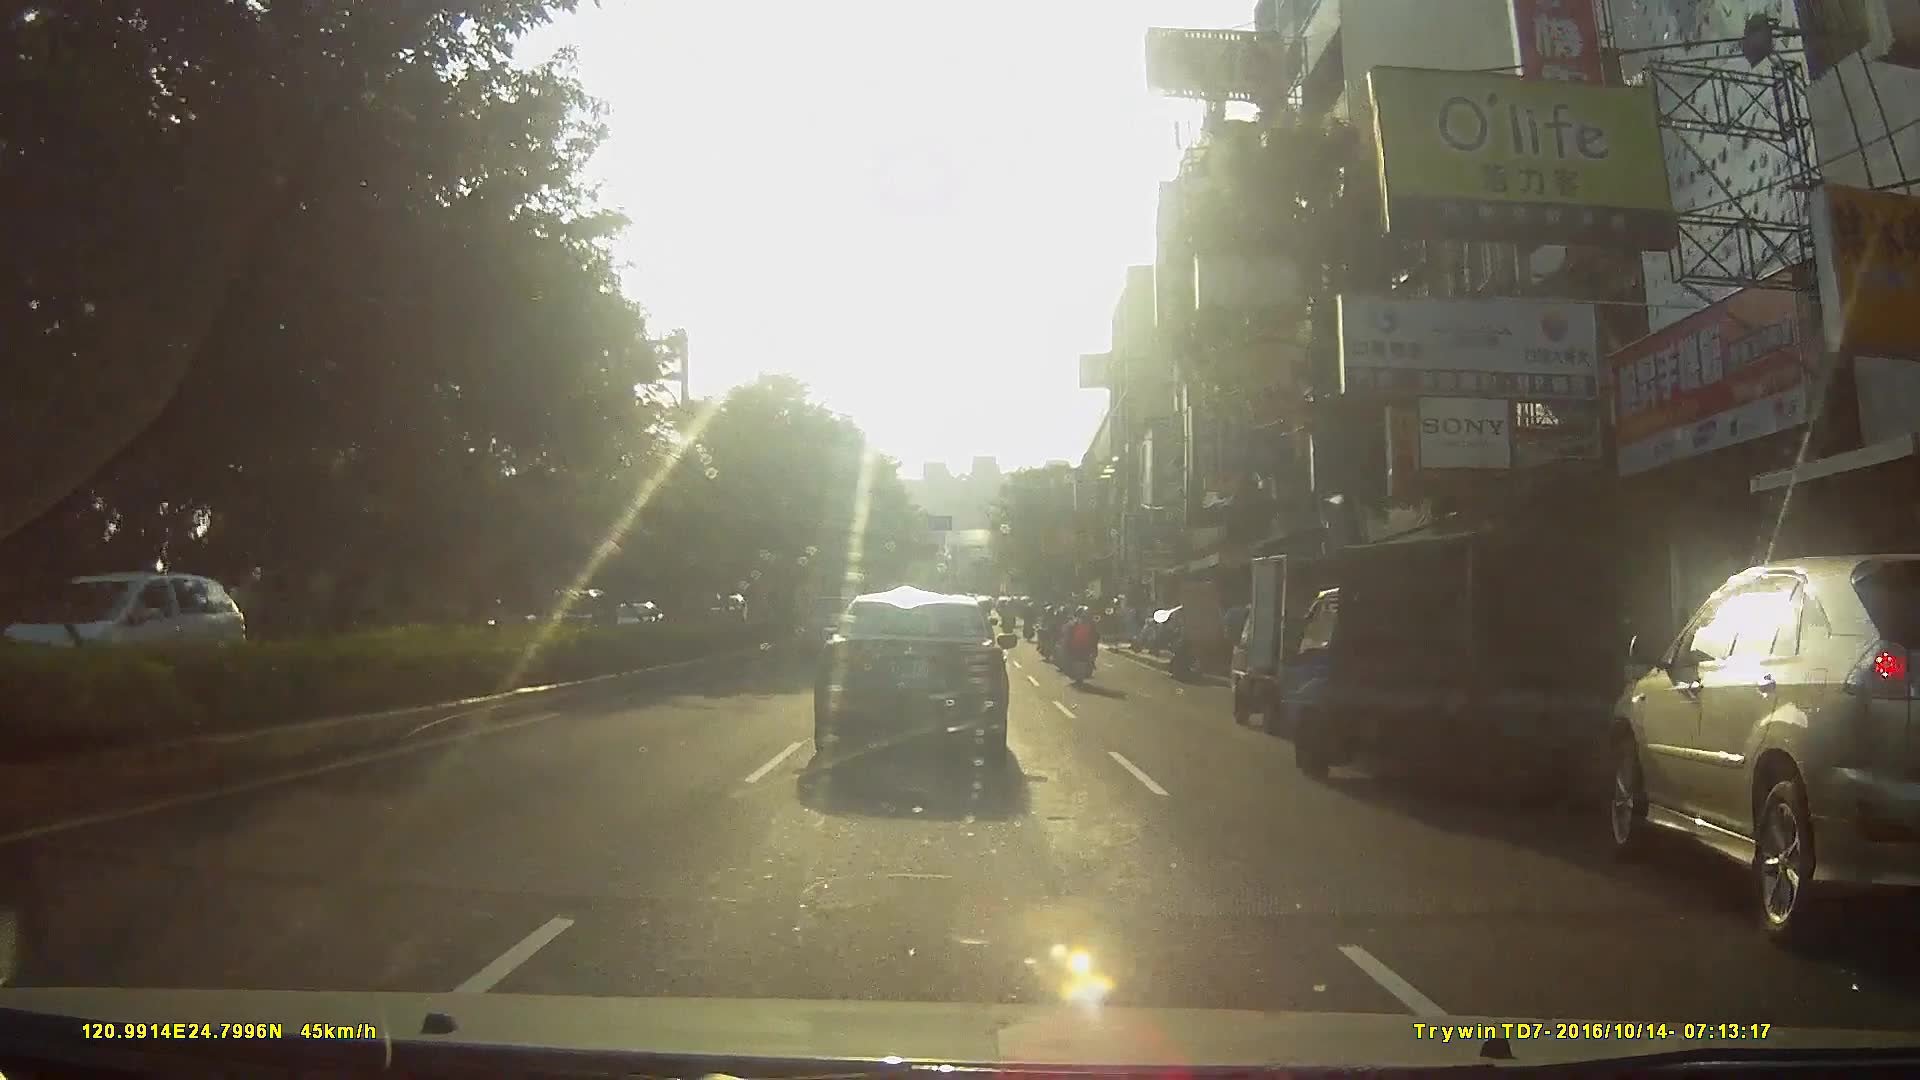rider: (1058, 607, 1101, 696), (1039, 606, 1060, 663)
vehicle: (1584, 554, 1920, 934), (1283, 516, 1675, 819), (1219, 545, 1435, 740), (811, 589, 1031, 781), (10, 568, 236, 685)
